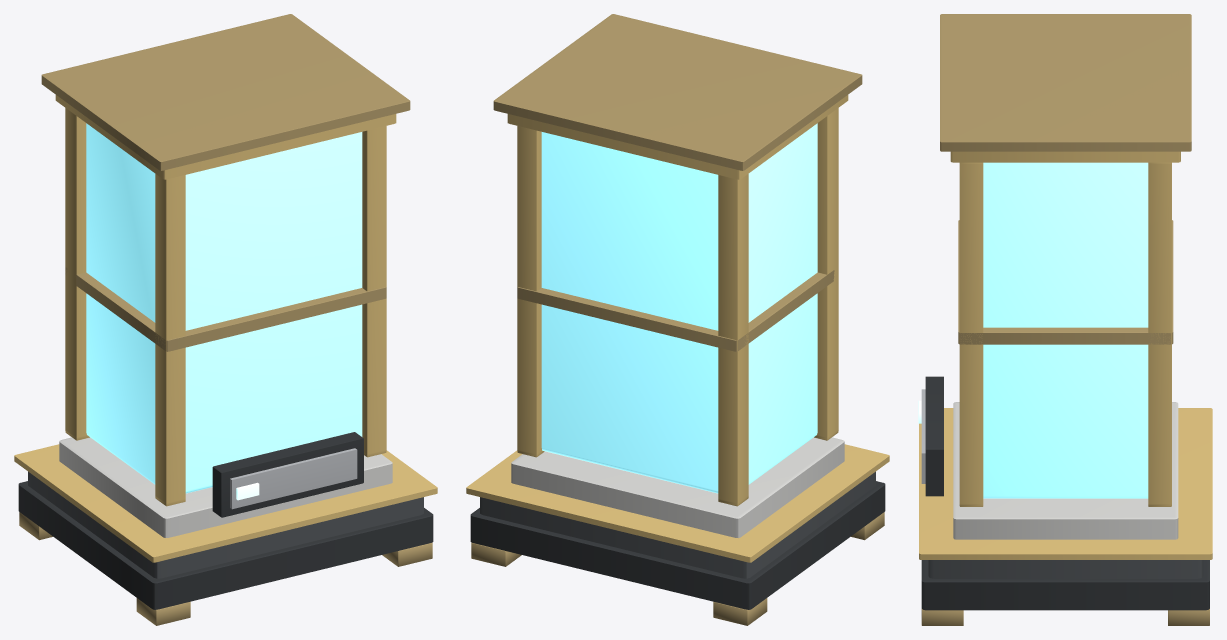
Rendered from hp_room_museum_glass_vitrine_specimen.glb.
3 views of the same model, side by side, from view 1: azimuth 30°, elevation 25°; view 2: azimuth 150°, elevation 25°; view 3: azimuth 270°, elevation 25° (orthographic). The views are drawn at different scales.
Parts seen in each view (by area): view 1: room_museum_glass_vitrine_specimen; view 2: room_museum_glass_vitrine_specimen; view 3: room_museum_glass_vitrine_specimen.
Boxes of the visible parts, box(x1,y1,x2,y2) form: room_museum_glass_vitrine_specimen: box(14, 14, 437, 625); room_museum_glass_vitrine_specimen: box(466, 14, 889, 625); room_museum_glass_vitrine_specimen: box(918, 14, 1212, 625).
Size of the model in its own units: 1.32 by 2.01 by 1.12.
